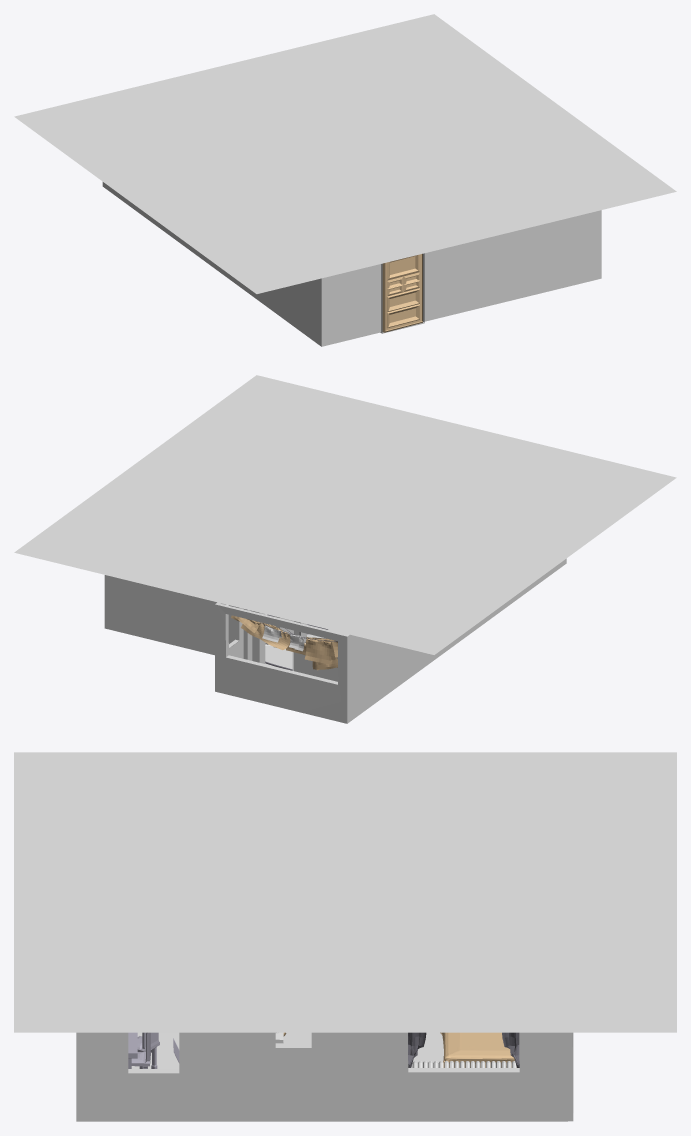
The model's file is Apartament.fbx.
3 views of the same model, one above another, from view 1: azimuth 30°, elevation 25°; view 2: azimuth 150°, elevation 25°; view 3: azimuth 270°, elevation 25° (orthographic). The views are drawn at different scales.
Parts seen in each view (by area): view 1: Tavan, WALLS, FRONT DOOR; view 2: Tavan, WALLS, Rufa 1; view 3: Tavan, WALLS, Plapuma, Calorifer dormitor.
Part boxes in pixels (x1,y1,x2,y2): Tavan: (14, 14, 676, 293); WALLS: (102, 182, 601, 346); FRONT DOOR: (382, 253, 422, 332); Tavan: (14, 375, 676, 654); WALLS: (104, 558, 566, 723); Rufa 1: (304, 638, 335, 664); Tavan: (14, 752, 676, 1032); WALLS: (76, 1032, 573, 1121); Plapuma: (440, 1032, 516, 1067); Calorifer dormitor: (411, 1061, 516, 1067).
Bounding box in the file's own units: 2148 × 479 × 2148.
